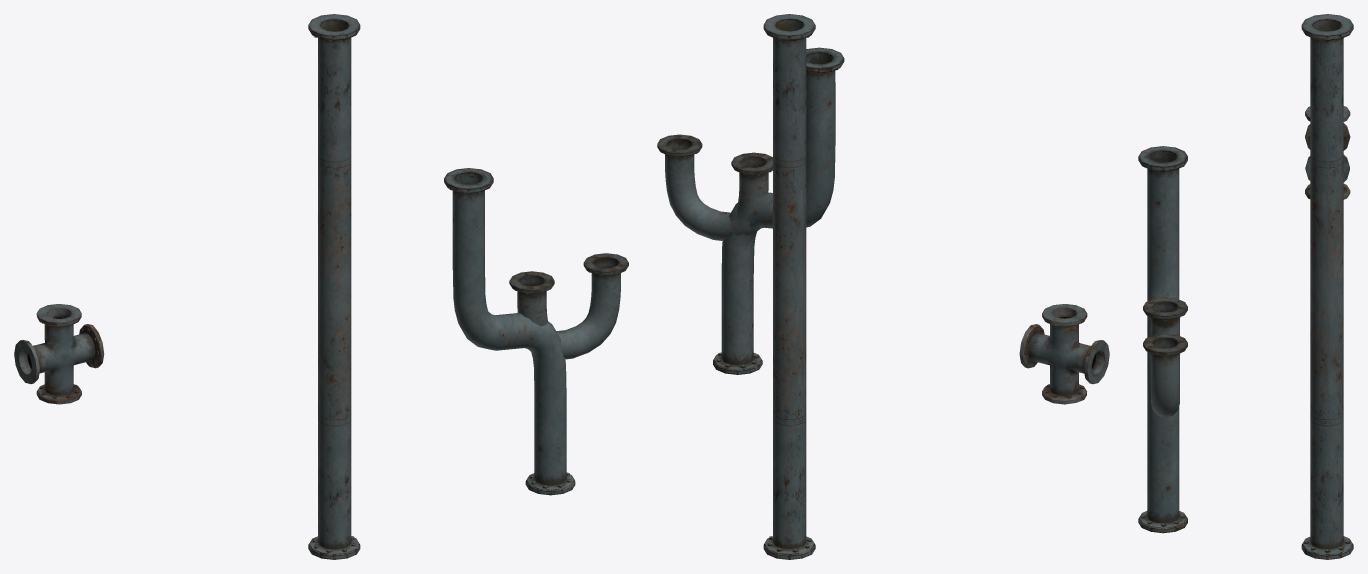
Rendered from turbine_pipework.glb.
The picture shows the model from 3 angles, left to right: view 1: azimuth 30°, elevation 25°; view 2: azimuth 150°, elevation 25°; view 3: azimuth 270°, elevation 25°; orthographic projection.
Parts seen in each view (by area): view 1: modular_industrial_pipes_01_pipe02; view 2: modular_industrial_pipes_01_pipe02; view 3: modular_industrial_pipes_01_pipe02.
Part boxes in pixels (x1,y1,x2,y2): modular_industrial_pipes_01_pipe02: [14, 14, 628, 559]; modular_industrial_pipes_01_pipe02: [657, 14, 1109, 559]; modular_industrial_pipes_01_pipe02: [1138, 14, 1353, 559].
Size of the model in its own units: 2.74 by 2.64 by 0.9825.
Materials: 2 (2 with a texture image).
